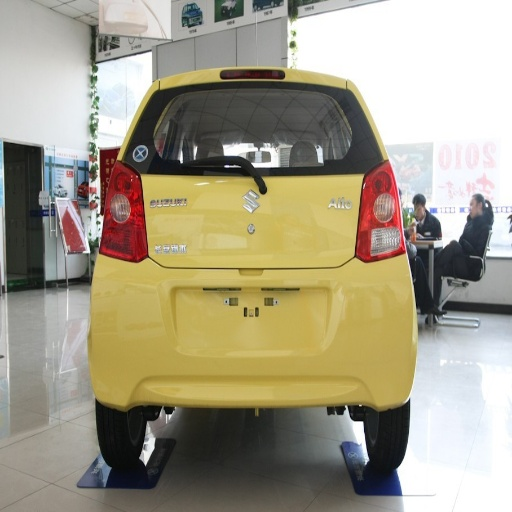back_bumper: (60, 251, 418, 409)
back_right_light: (358, 164, 404, 260)
trunk: (136, 160, 378, 343)
